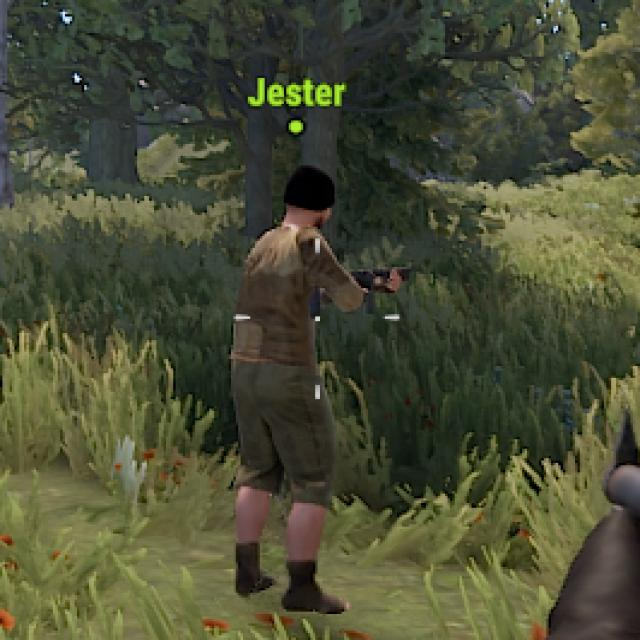Player: (229, 164, 364, 614)
